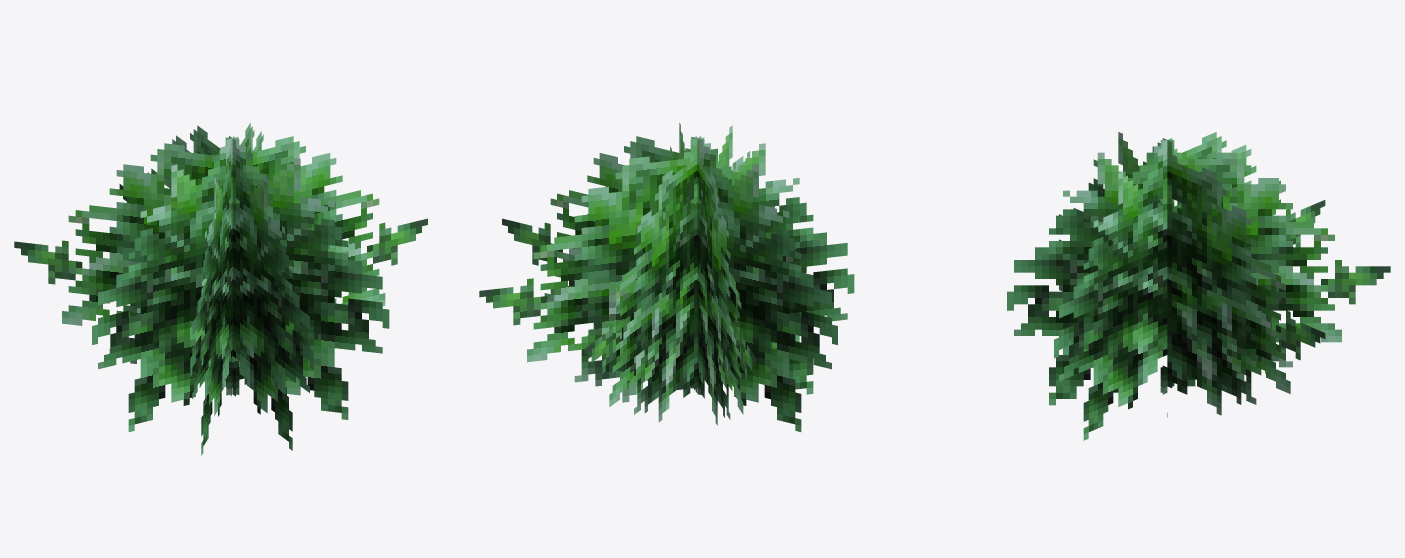
Rendered from Bush.fbx.
3 renders of one model, left to right at view 1: azimuth 30°, elevation 25°; view 2: azimuth 150°, elevation 25°; view 3: azimuth 270°, elevation 25°, orthographic.
Visible parts, largest first — view 1: Bush; view 2: Bush; view 3: Bush.
Boxes of the visible parts, <box> form: Bush: <box>14,123,427,455</box>; Bush: <box>479,123,854,431</box>; Bush: <box>1007,132,1390,440</box>.
Size of the model in its own units: 119 by 100 by 119.
1 material, 1 textured.
